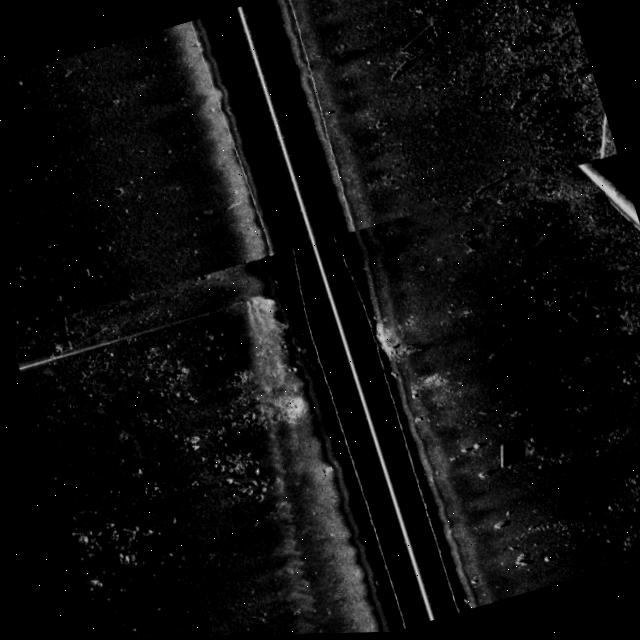mine: (484, 435, 527, 474), (572, 274, 616, 303), (558, 303, 597, 331), (457, 237, 485, 258)
